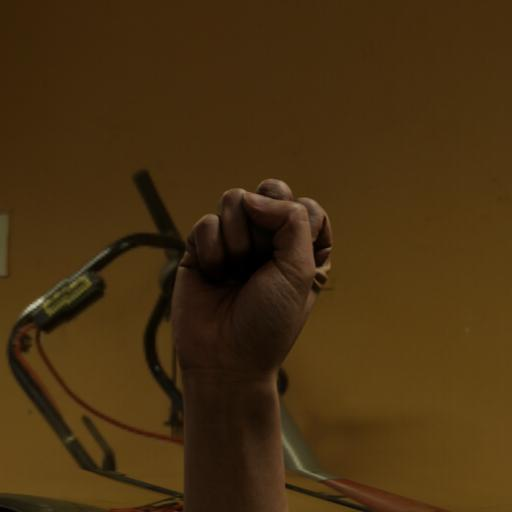S: (152, 155, 351, 386)
